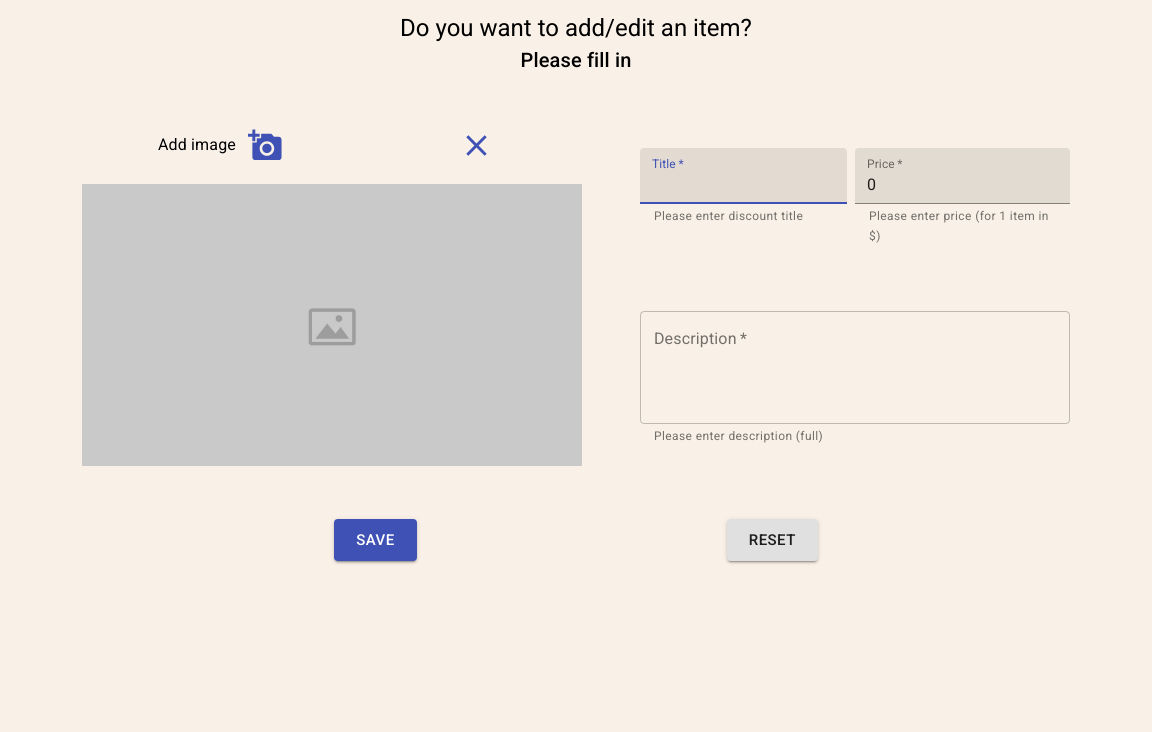
Scenario: Add item tests › Tests inputs and setStates func
Step 1. Type "title" into the field with test id "title" → [744, 176], box [640,148,847,204]
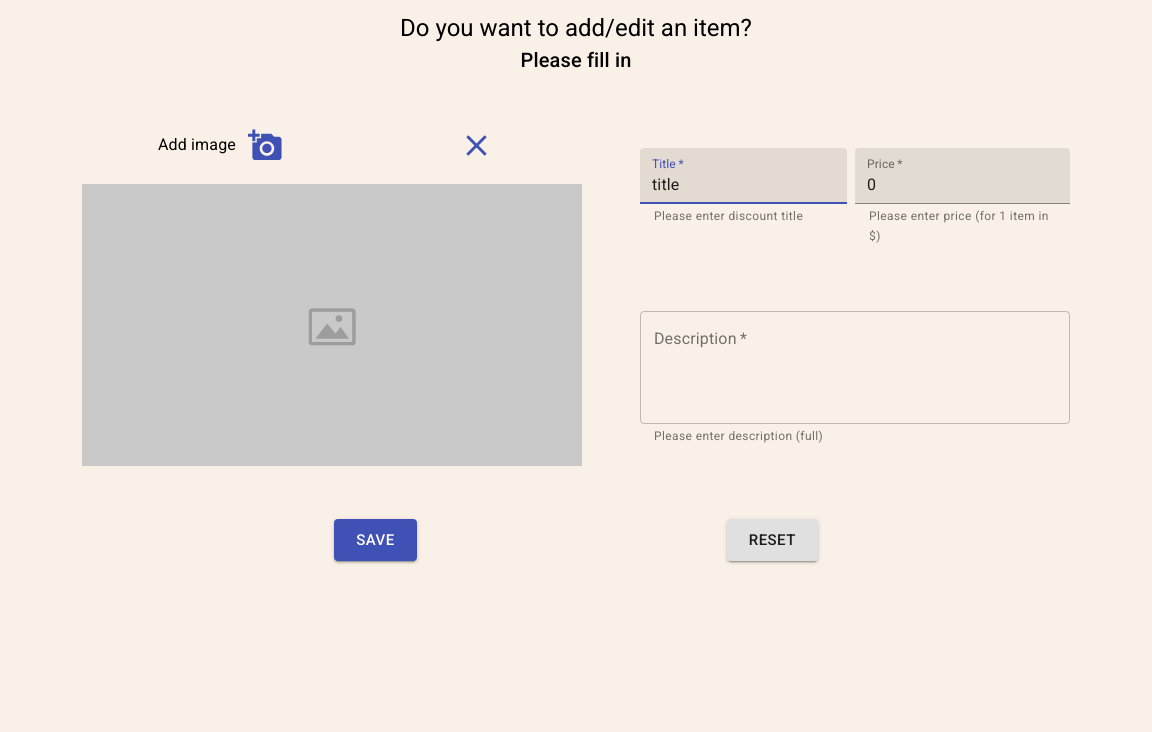
Step 2. Type "desc" into the text box with test id "desc" → [855, 367], box [654,329,1056,405]
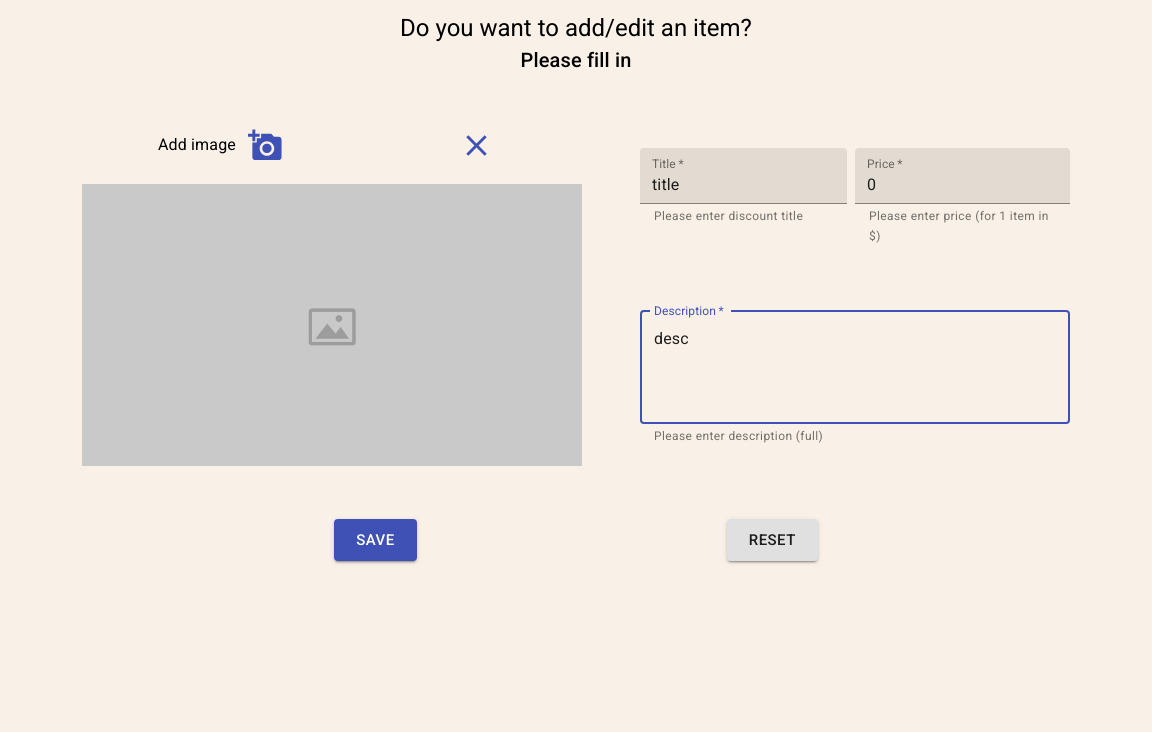
Step 3. Type "111" into the number field with test id "price" → [962, 176], box [855,148,1070,204]
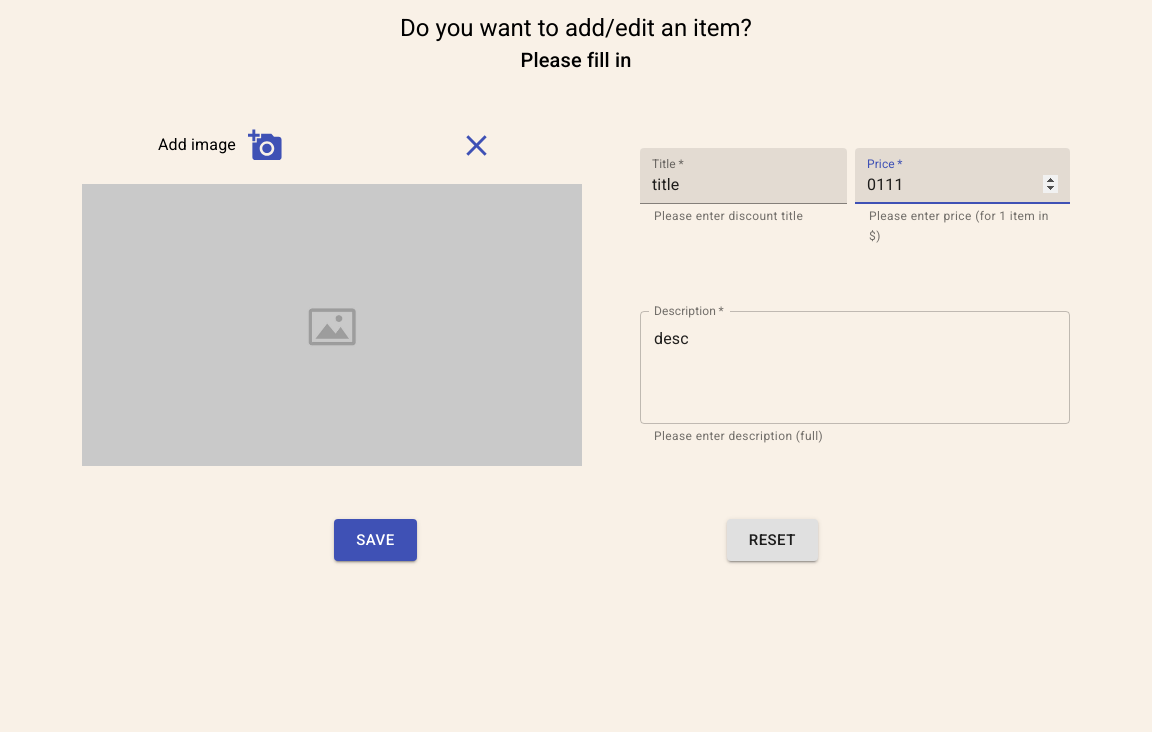
Now the number field showing "0111" is shown, box [855,148,1070,204]
